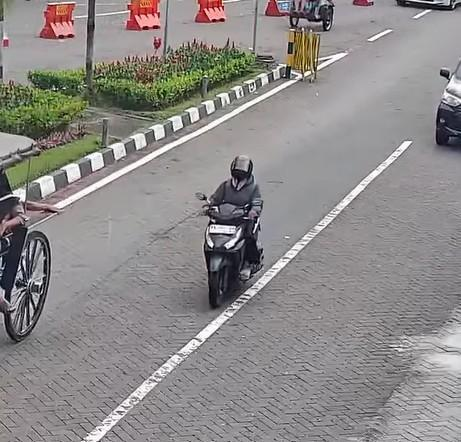Helmet: (230, 155, 253, 182)
Number Plate: (209, 224, 236, 234), (56, 4, 68, 15)
Rearview Mirror: (440, 68, 450, 79), (195, 192, 206, 200)
